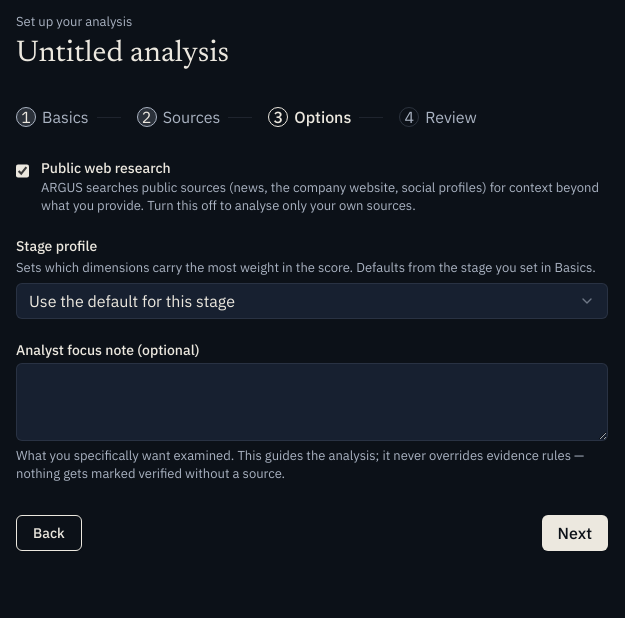
Test: SetupWizard › shows a save error and does not advance when PATCH fails
This screenshot has width=625, height=618.
Click the button "Next": click(575, 533) [542,515,608,551]
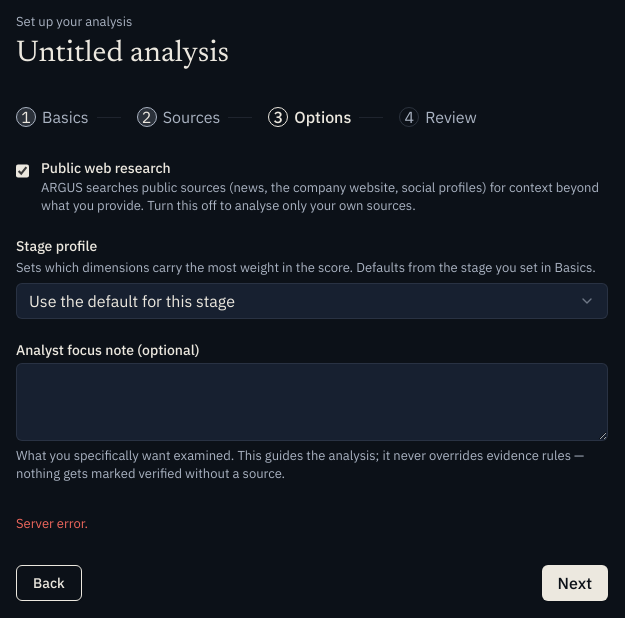
Now the message reads "Server error.", box [16,515,88,532]
